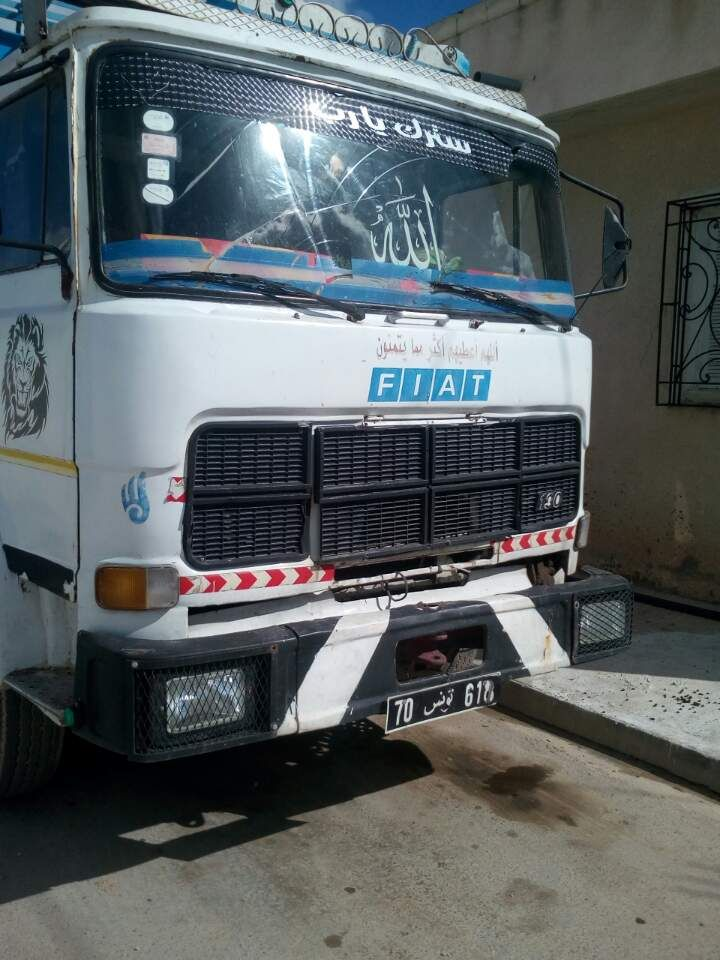LP: (386, 674, 500, 731)
